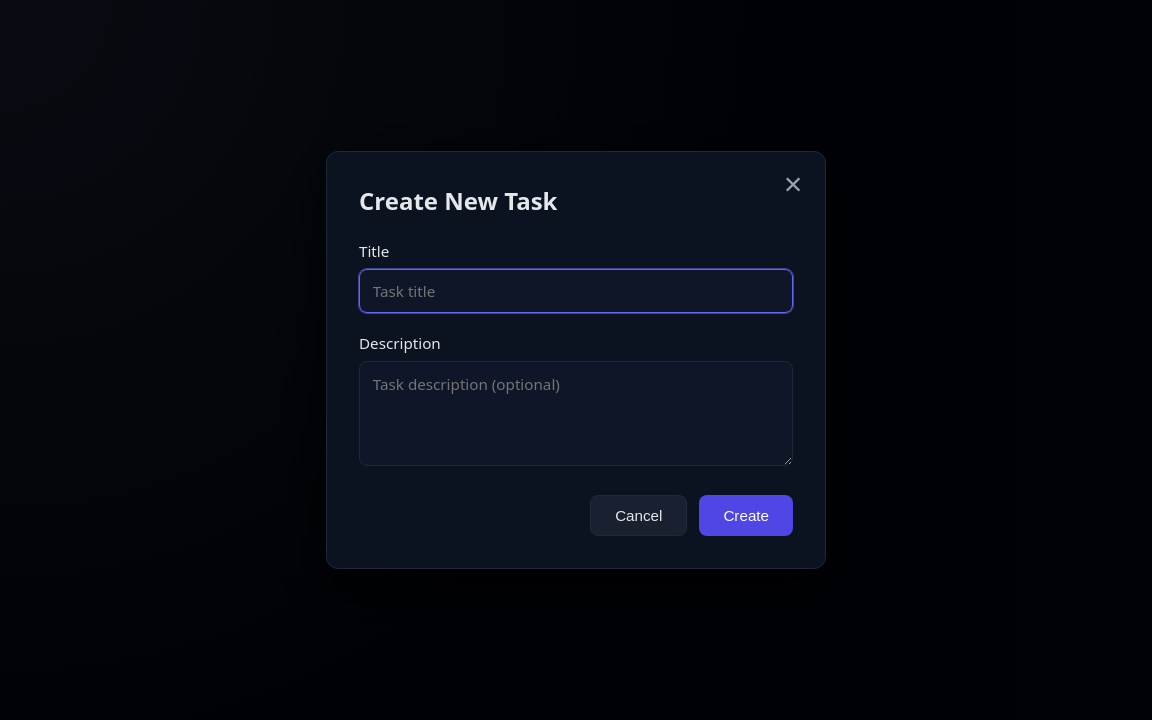
Test: CreateTaskModal › shows loading state during creation
The width and height of the screenshot is (1152, 720).
Step 1. Type "Test Task" into the field with test id "input-task-title" → (576,291), box [359,269,793,313]
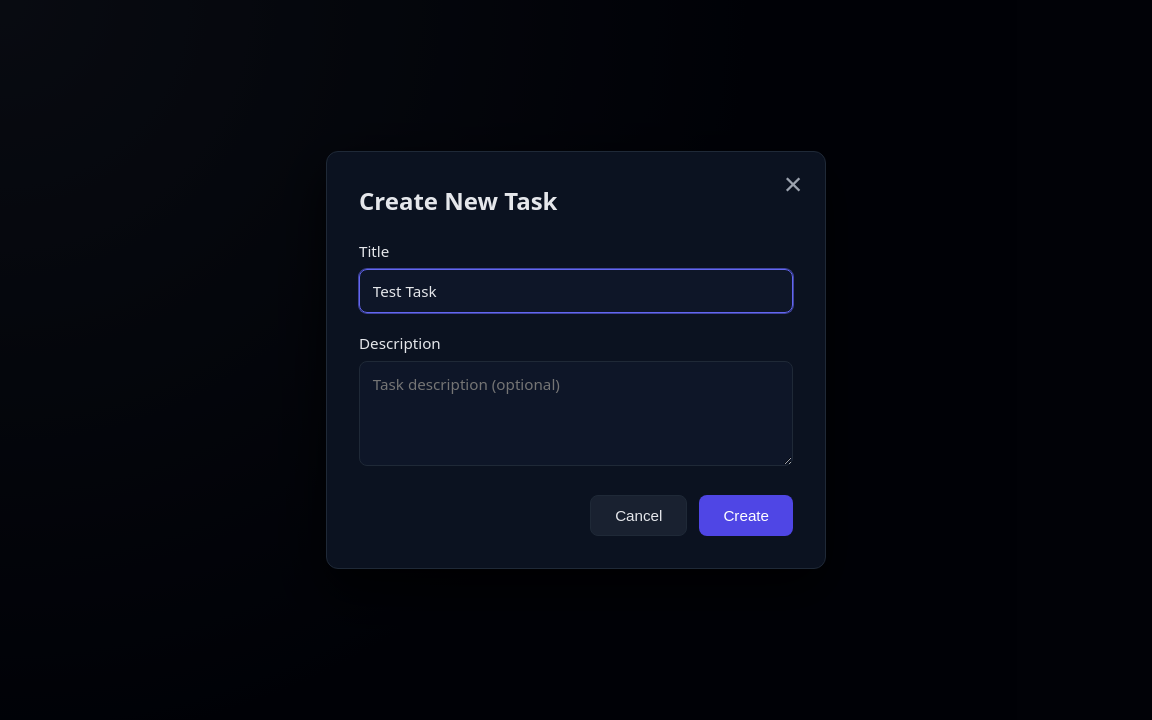
Step 2. Click the button with test id "btn-create" → (746,515), box [699,495,793,536]
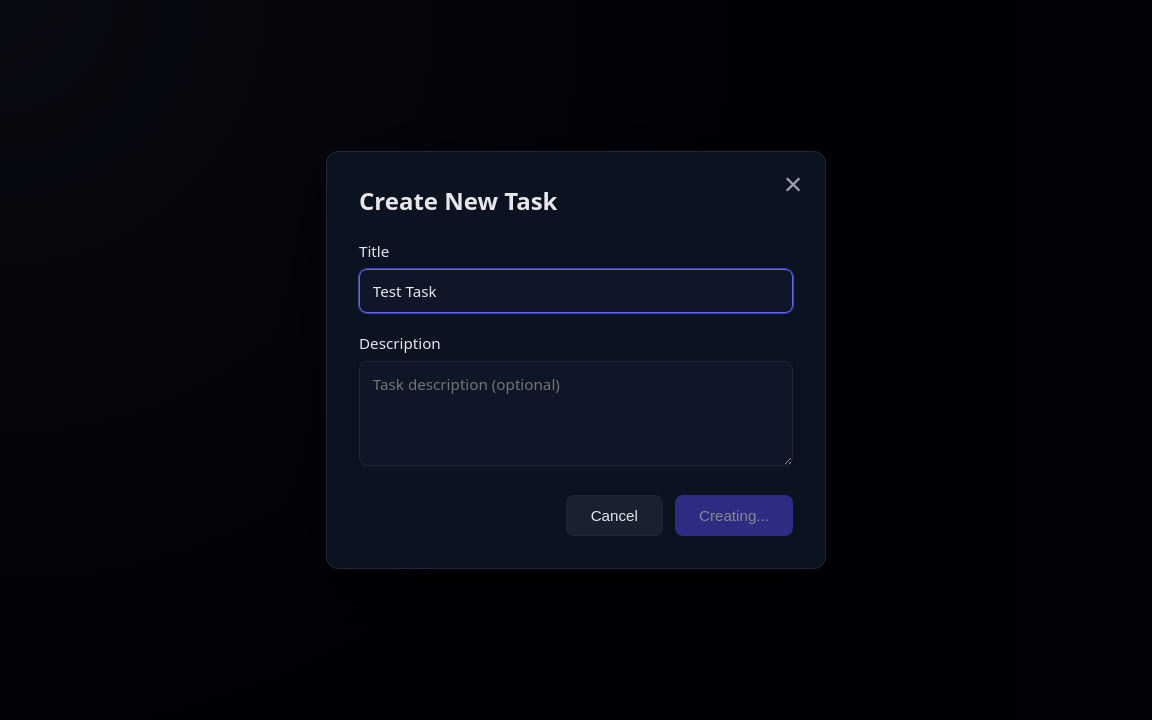
expect the button with test id "btn-create" reads "Creating...": met, box [675,495,793,536]
expect the button with test id "btn-create" is disabled: met, box [675,495,793,536]
